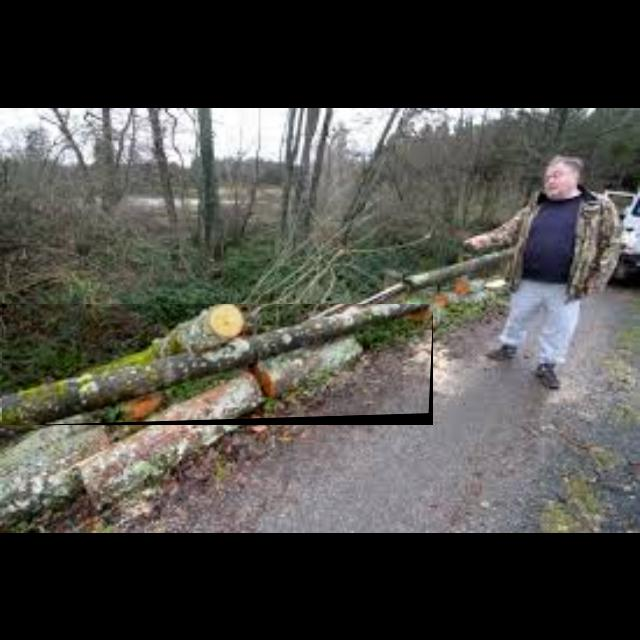Fallen Tree: (2, 304, 434, 426)
